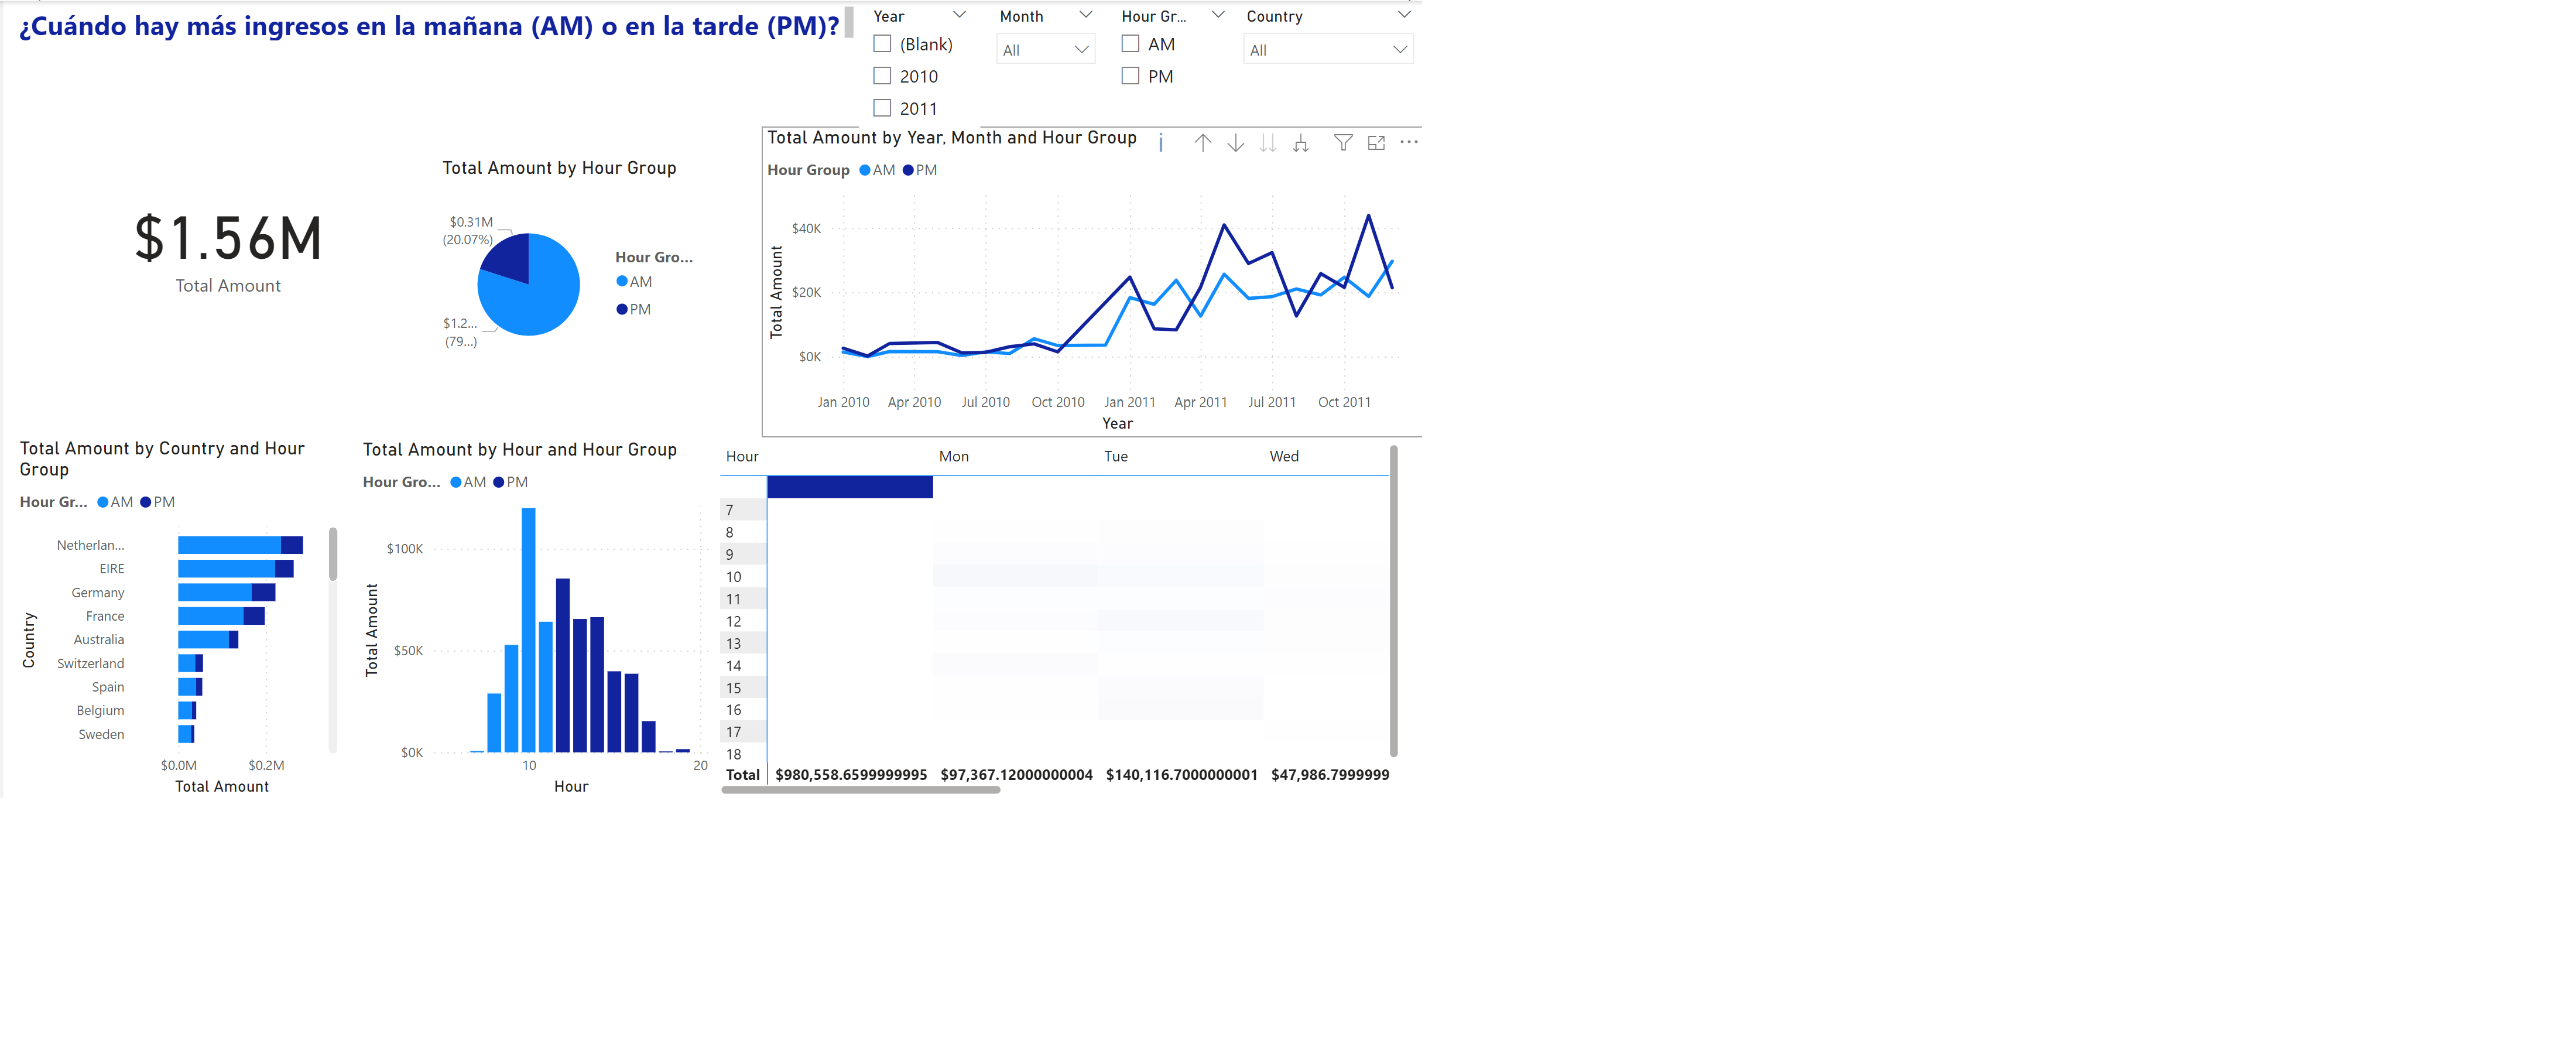

The page's visual inventory and layout, read from the dashboard file:
{"tool":"powerbi","page":{"name":"Page 3","canvas":[1280,720],"ordinal":0},"visuals":[{"type":"card","fields":{"Values":["DAX Medidas.Total Amount"]},"box":[99.2,150.9,206.8,131.9],"z":0},{"type":"pieChart","fields":{"Category":["invoice data.Hour Group"],"Y":["DAX Medidas.Total Amount"]},"box":[390.4,140.3,244.8,211],"z":1000},{"type":"lineChart","fields":{"Category":["invoice data.InvoiceDate.Variation.Date Hierarchy.Year","invoice data.InvoiceDate.Variation.Date Hierarchy.Month","invoice data.InvoiceDate.Variation.Date Hierarchy.Day"],"Y":["DAX Medidas.Total Amount"],"Series":["invoice data.Hour Group"]},"box":[682.7,112.9,597.3,279.6],"z":2000},{"type":"columnChart","fields":{"Category":["invoice data.Hour"],"Y":["DAX Medidas.Total Amount"],"Series":["invoice data.Hour Group"]},"box":[318.7,393.6,321.8,326.1],"z":3000},{"type":"barChart","fields":{"Y":["DAX Medidas.Total Amount"],"Category":["invoice data.Country"],"Series":["invoice data.Hour Group"]},"box":[9.5,392.5,296.5,327.1],"z":4000},{"type":"pivotTable","fields":{"Rows":["invoice data.Hour"],"Columns":["invoice data.Day of Week"],"Values":["DAX Medidas.Total Amount"]},"box":[640.5,393.6,621.5,326.1],"z":5000},{"type":"slicer","fields":{"Values":["invoice data.InvoiceDate.Variation.Date Hierarchy.Year"]},"box":[770.3,0,109.7,117.1],"z":5001},{"type":"slicer","fields":{"Values":["invoice data.InvoiceDate.Variation.Date Hierarchy.Month"]},"box":[884.3,0,109.7,76],"z":5002},{"type":"slicer","fields":{"Values":["invoice data.Hour Group"]},"box":[994,0,119.2,89.7],"z":5004},{"type":"slicer","fields":{"Values":["invoice data.Country"]},"box":[1106.9,0,174.1,89.7],"z":5005},{"type":"textbox","box":[9.5,0,760.8,40.1],"z":5006}]}

Visuals, with their boxes on the page's 1280x720 design canvas (x1, y1, x2, y2). These are canvas units, not pixel positions in the 2576x1054 screenshot, which may show the page scaled, cropped or inside an application window:
card - DAX Medidas.Total Amount: locate(99, 151, 306, 283)
pieChart - invoice data.Hour Group x DAX Medidas.Total Amount: locate(390, 140, 635, 351)
lineChart - invoice data.InvoiceDate.Variation.Date Hierarchy.Year x invoice data.InvoiceDate.Variation.Date Hierarchy.Month: locate(683, 113, 1280, 392)
columnChart - invoice data.Hour x DAX Medidas.Total Amount: locate(319, 394, 640, 720)
barChart - DAX Medidas.Total Amount x invoice data.Country: locate(10, 392, 306, 720)
pivotTable - invoice data.Hour x invoice data.Day of Week: locate(640, 394, 1262, 720)
slicer - invoice data.InvoiceDate.Variation.Date Hierarchy.Year: locate(770, 0, 880, 117)
slicer - invoice data.InvoiceDate.Variation.Date Hierarchy.Month: locate(884, 0, 994, 76)
slicer - invoice data.Hour Group: locate(994, 0, 1113, 90)
slicer - invoice data.Country: locate(1107, 0, 1281, 90)
textbox: locate(10, 0, 770, 40)
